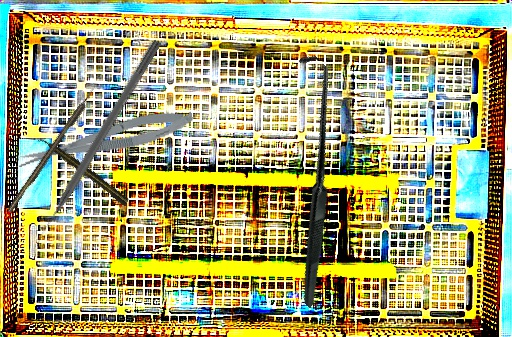Handpiece: (37, 133, 131, 208)
Hook Surgical: (180, 49, 439, 309), (6, 84, 99, 214)
Micro Scissor: (14, 104, 196, 173)
Pusher: (31, 36, 163, 245)
